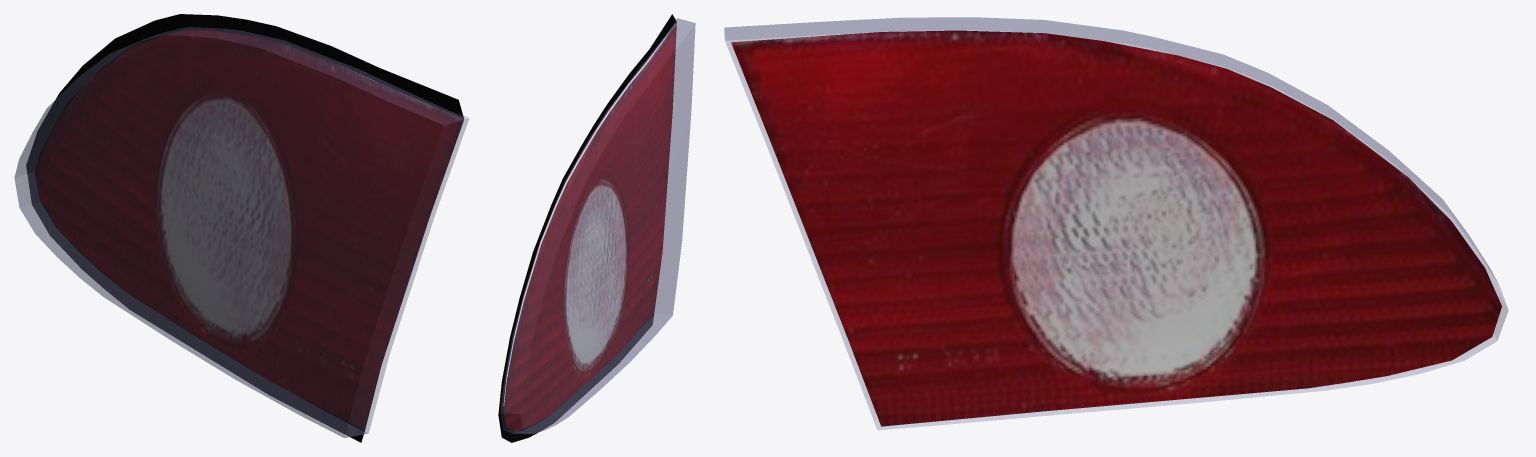
3 views of the same model, side by side, from view 1: azimuth 30°, elevation 25°; view 2: azimuth 150°, elevation 25°; view 3: azimuth 270°, elevation 25° (orthographic). The views are drawn at different scales.
Visible parts, largest first — view 1: Y210_541D_R_1_DTaSI_Y210_541D_R, Y210_541D_R_Y210_541D_R_2_N, Y210_541D_R_Y210_541D_R_3_D; view 2: Y210_541D_R_1_DTaSI_Y210_541D_R, Y210_541D_R_Y210_541D_R_2_N, Y210_541D_R_Y210_541D_R_3_D; view 3: Y210_541D_R_Y210_541D_R_2_N, Y210_541D_R_1_DTaSI_Y210_541D_R.
Boxes of the visible parts, <box> form: Y210_541D_R_1_DTaSI_Y210_541D_R: <box>14,27,469,437</box>; Y210_541D_R_Y210_541D_R_2_N: <box>36,30,463,429</box>; Y210_541D_R_Y210_541D_R_3_D: <box>26,14,463,442</box>; Y210_541D_R_1_DTaSI_Y210_541D_R: <box>501,18,695,433</box>; Y210_541D_R_Y210_541D_R_2_N: <box>503,22,676,430</box>; Y210_541D_R_Y210_541D_R_3_D: <box>498,14,676,442</box>; Y210_541D_R_Y210_541D_R_2_N: <box>731,30,1501,426</box>; Y210_541D_R_1_DTaSI_Y210_541D_R: <box>724,17,1508,429</box>.
Bounding box in the file's own units: 6.34 × 19.52 × 32.25.
